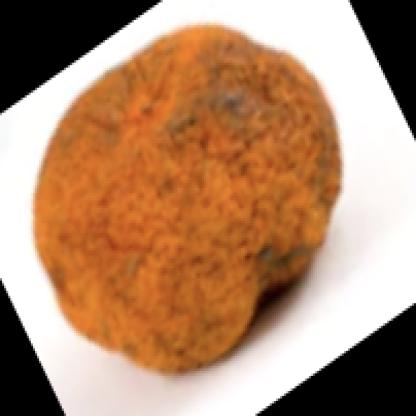rotten: (34, 28, 342, 375)
